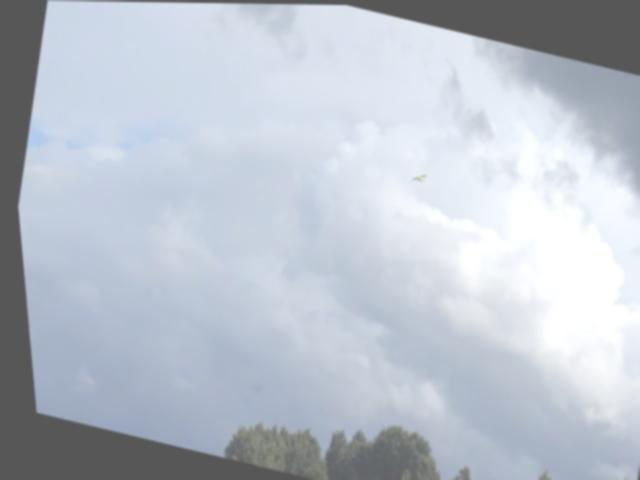plane: (408, 168, 423, 185)
